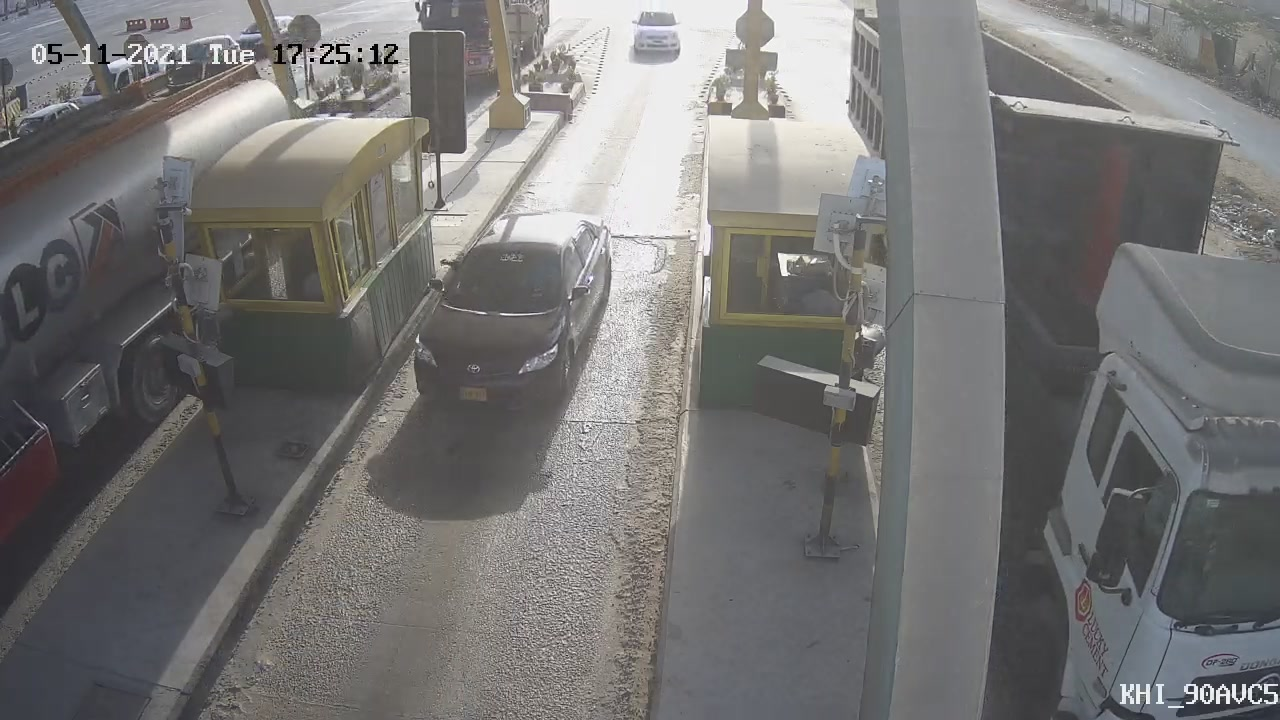F1: (386, 191, 635, 446)
